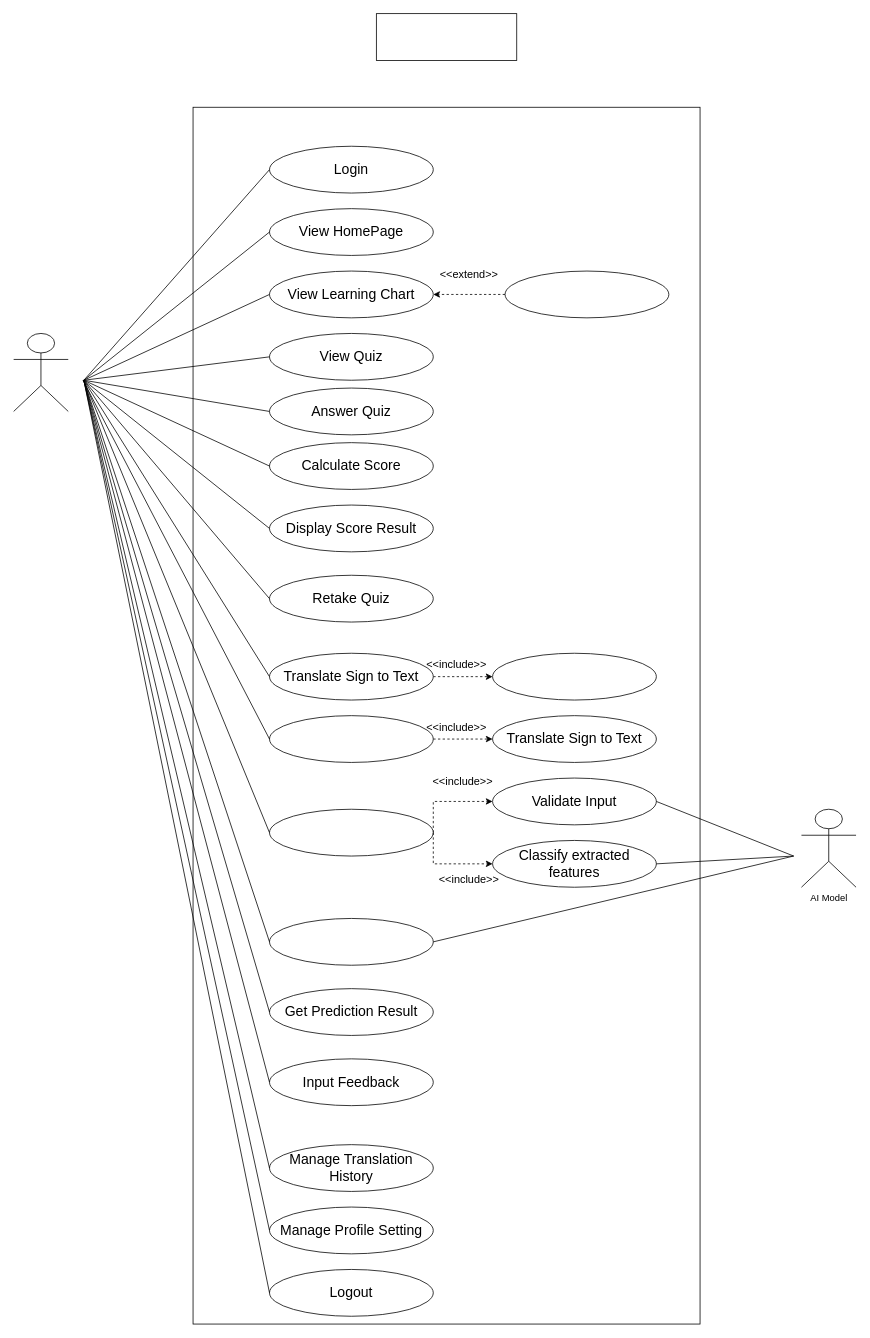
This 870x1338 diagram has some shape labels left out. Each missing label, with the centre of its shape:
"AI Model Prediction" goes at (x=351, y=941).
"Choose Webcam or Upload media" goes at (x=574, y=676).
"Input processing" goes at (x=351, y=832).
"Select category" goes at (x=586, y=294).
"Translate Text to Sign" goes at (x=351, y=738).
"USER" goes at (x=40, y=372).
"USER USECASE" goes at (x=446, y=36).
